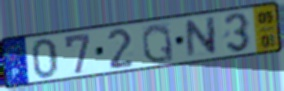0: (30, 37, 60, 80)
2: (105, 26, 138, 71)
3: (221, 11, 253, 55)
7: (62, 32, 92, 75)
N: (184, 15, 219, 61)
Q: (140, 22, 176, 65)
